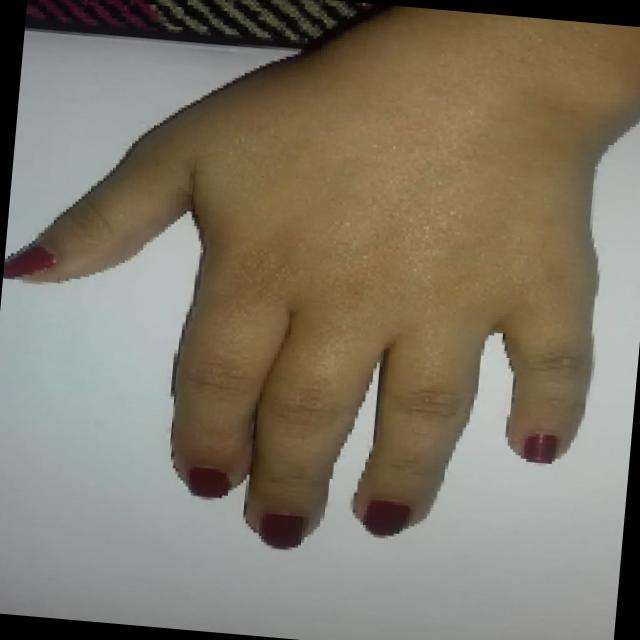Nail: (3, 245, 55, 279), (363, 499, 410, 536), (259, 514, 305, 549), (188, 466, 229, 497), (523, 433, 557, 463)
